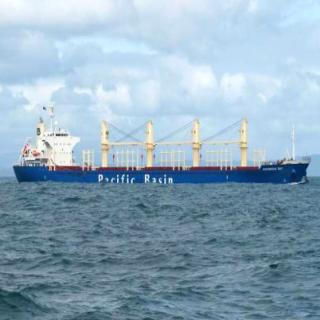Bulk Carrier: (8, 105, 295, 186)
